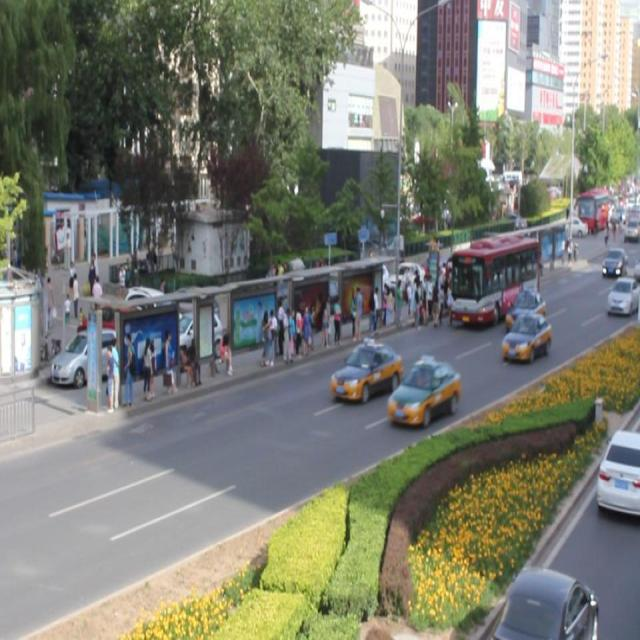car: (386, 356, 461, 425), (329, 340, 402, 402), (498, 310, 550, 362), (504, 289, 544, 330), (605, 275, 640, 316)
van: (447, 232, 538, 326)
